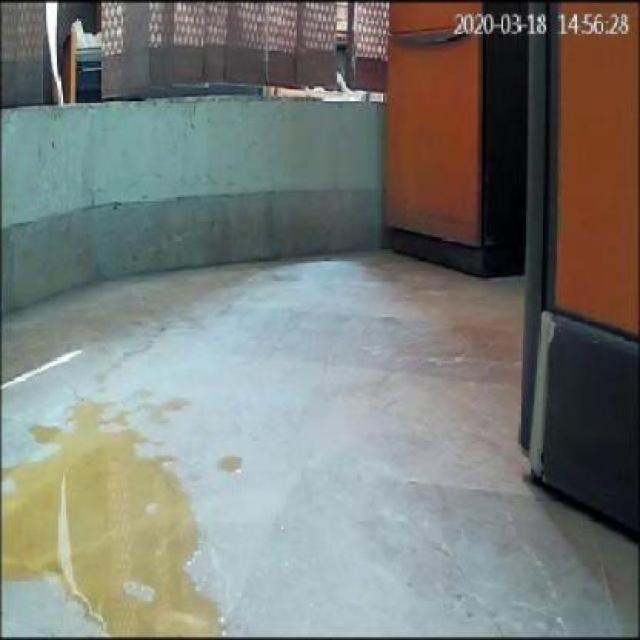spillage: (3, 401, 222, 636)
